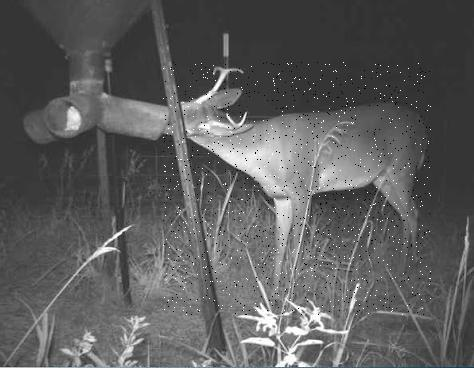Deer: (163, 62, 431, 315)
